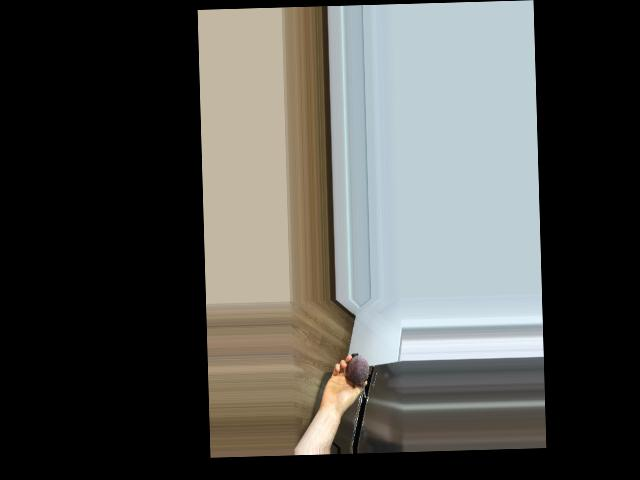beet: (346, 352, 369, 397)
